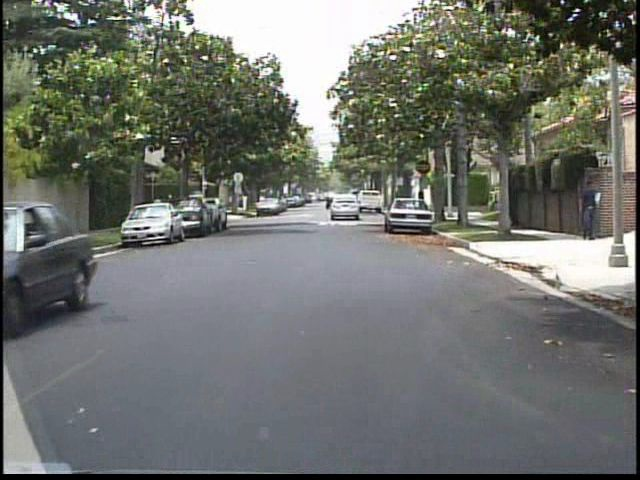person: (575, 177, 602, 246), (152, 192, 169, 230)
